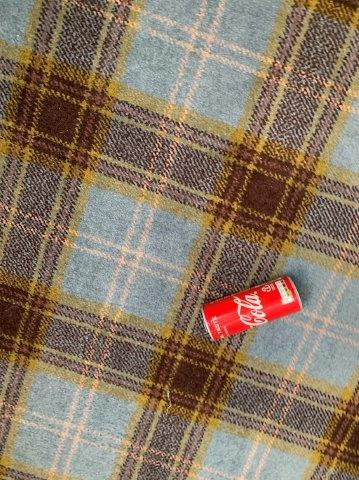kaleng: (203, 277, 302, 339)
